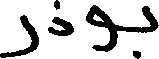ب: (132, 3, 157, 58)
ذ: (48, 0, 73, 37)
ر: (0, 13, 39, 58)
و: (85, 2, 117, 52)
